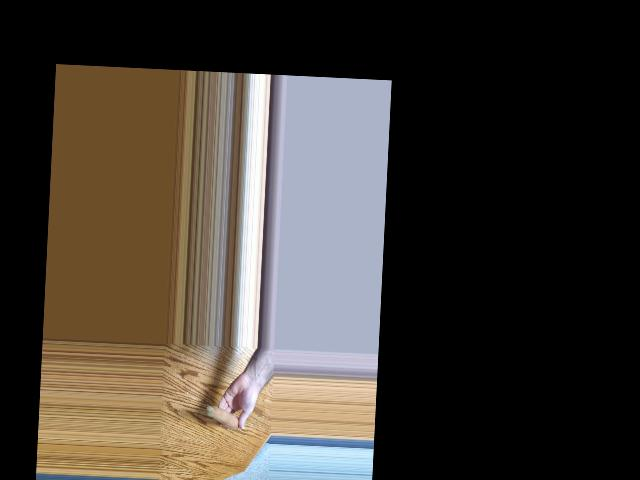sweet_potato: (205, 403, 242, 429)
